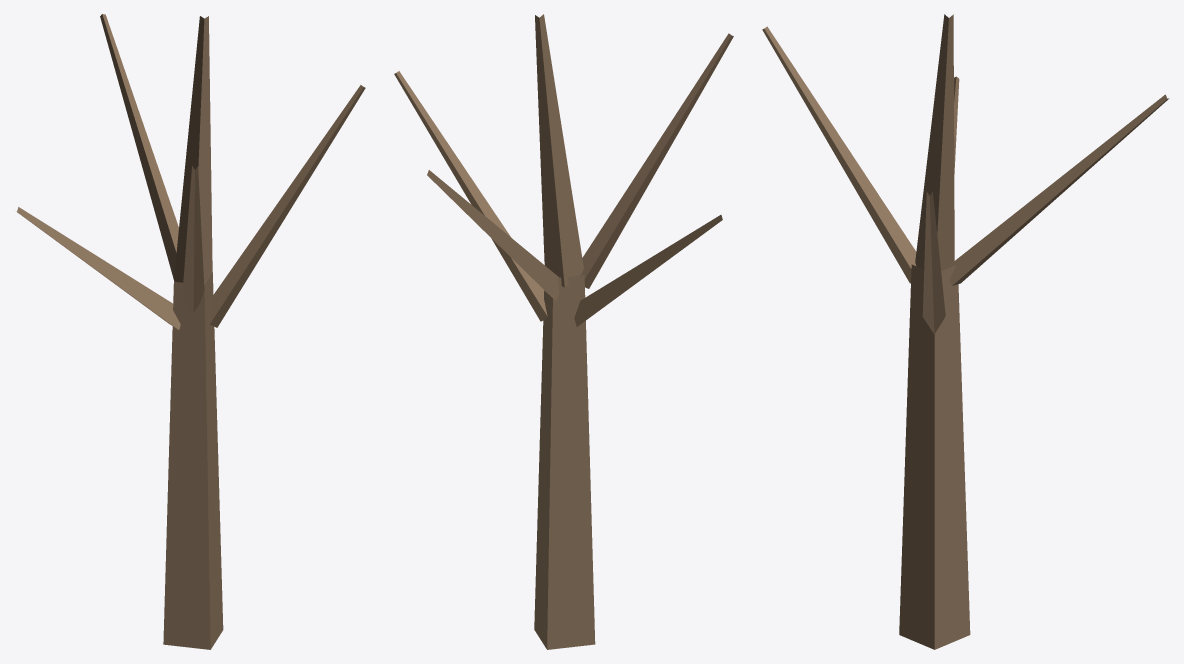
Rendered from tree_bare_far.glb.
3 renders of one model, left to right at view 1: azimuth 30°, elevation 25°; view 2: azimuth 150°, elevation 25°; view 3: azimuth 270°, elevation 25°, orthographic. The views are drawn at different scales.
Parts seen in each view (by area): view 1: tree_bare_far; view 2: tree_bare_far; view 3: tree_bare_far.
Part boxes in pixels (x1,y1,x2,y2): tree_bare_far: [16, 14, 365, 649]; tree_bare_far: [394, 14, 733, 649]; tree_bare_far: [762, 14, 1169, 649].
Size of the model in its own units: 2.25 by 3.9 by 2.29.
